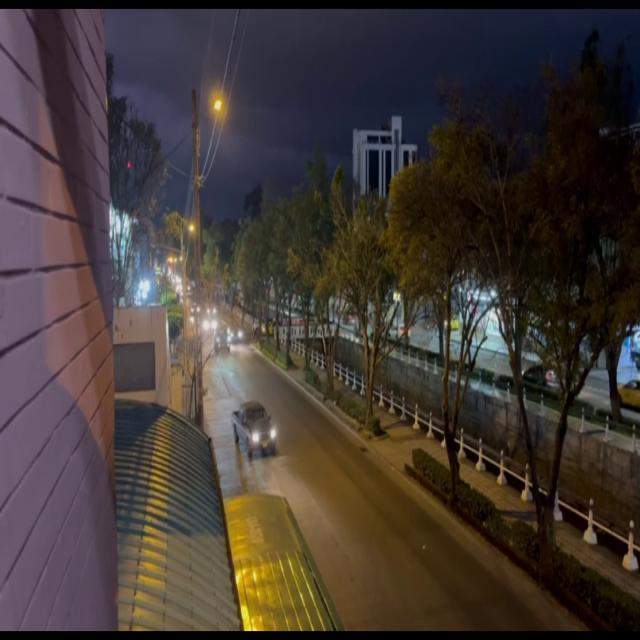CMT: (233, 406, 275, 456)
